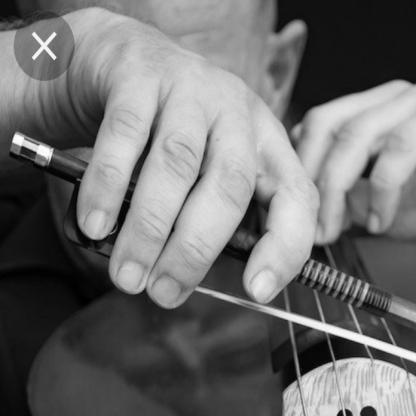good: (85, 25, 314, 322)
